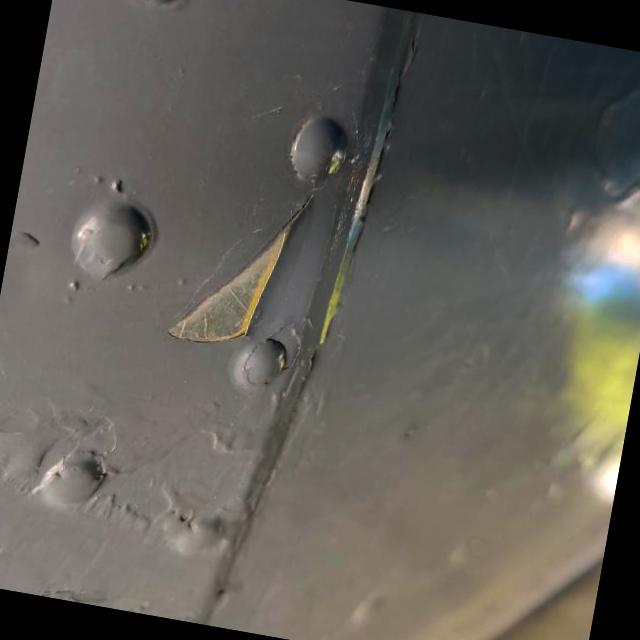paint-off: (134, 144, 344, 386)
